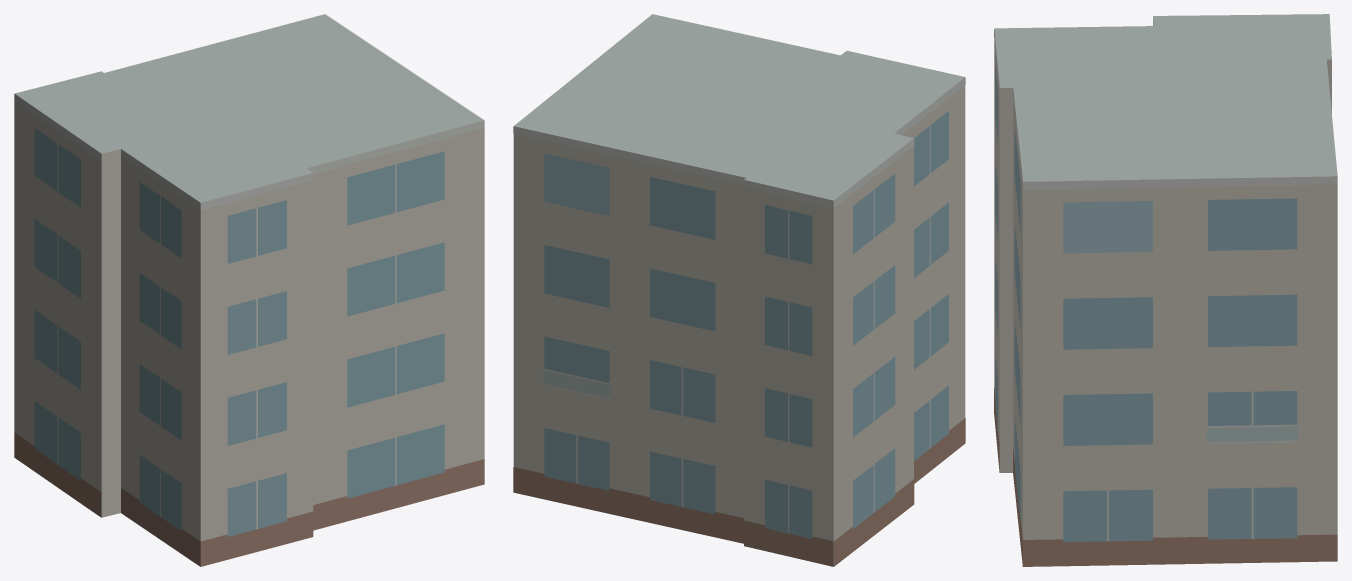
Rendered from survey-upis-32748155.glb.
3 views of the same model, side by side, from view 1: azimuth 30°, elevation 25°; view 2: azimuth 150°, elevation 25°; view 3: azimuth 270°, elevation 25° (orthographic). The views are drawn at different scales.
Visible parts, largest first — view 1: survey-upis-32748155.tmp; view 2: survey-upis-32748155.tmp; view 3: survey-upis-32748155.tmp.
Part boxes in pixels (x1,y1,x2,y2): survey-upis-32748155.tmp: [14, 14, 484, 566]; survey-upis-32748155.tmp: [513, 14, 965, 566]; survey-upis-32748155.tmp: [994, 14, 1337, 566].
Bounding box in the file's own units: 10.76 × 11.5 × 9.31.
